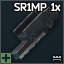SR-1MP single rail mount: (0, 0, 64, 64)
